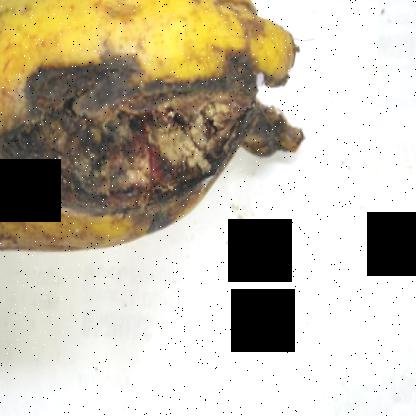ripe: (0, 0, 295, 252)
rotten: (9, 33, 326, 236)
